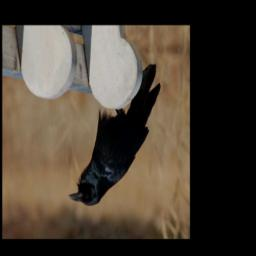Crow: (68, 62, 161, 206)
